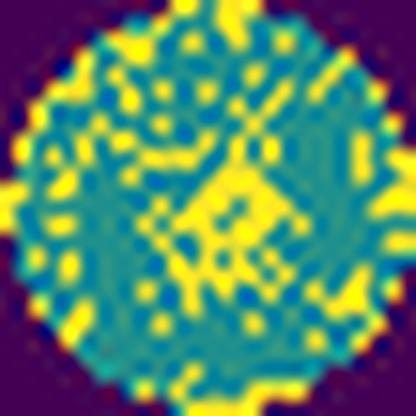Center: (134, 126, 312, 324)
